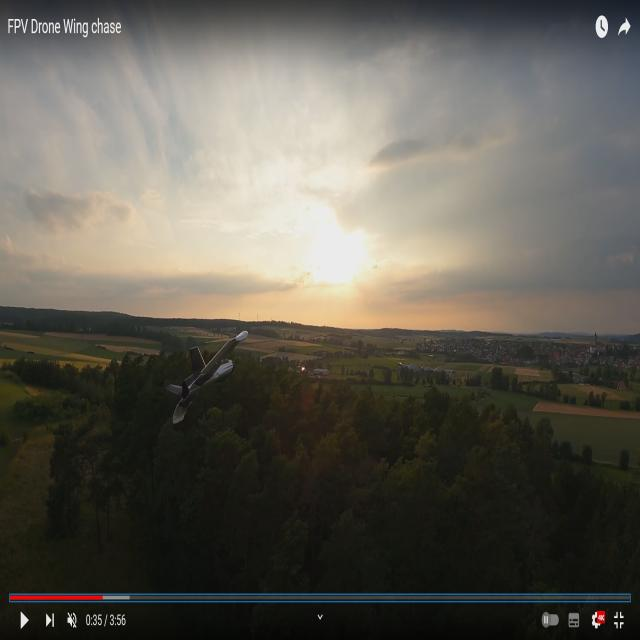iha: (202, 361, 214, 395)
